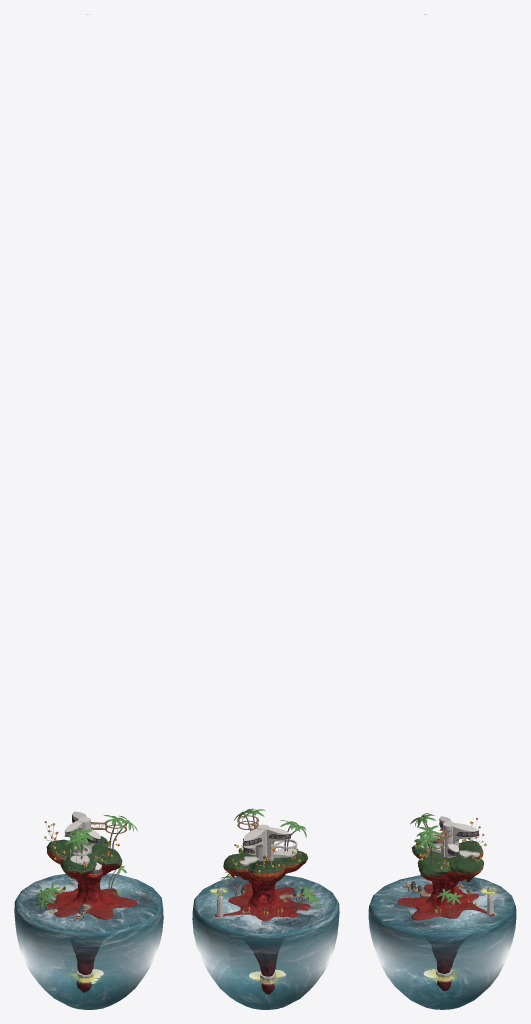
Rendered from plastic_beach.glb.
3 renders of one model, left to right at view 1: azimuth 30°, elevation 25°; view 2: azimuth 150°, elevation 25°; view 3: azimuth 270°, elevation 25°, orthographic.
Visible parts, largest first — view 1: Water, landmassLowpolly:Group34330; view 2: Water, landmassLowpolly:Group34330, BigBackRoom; view 3: Water, landmassLowpolly:Group34330.
Boxes of the visible parts, box(x1,y1,x2,y2) form: Water: box(14, 873, 163, 1009); landmassLowpolly:Group34330: box(46, 836, 137, 992); Water: box(192, 875, 339, 1009); landmassLowpolly:Group34330: box(214, 850, 310, 994); BigBackRoom: box(243, 828, 264, 861); Water: box(368, 875, 516, 1009); landmassLowpolly:Group34330: box(397, 840, 494, 990).
Size of the model in its own units: 27.38 by 201 by 27.38.
Materials: 24 (24 with a texture image).
